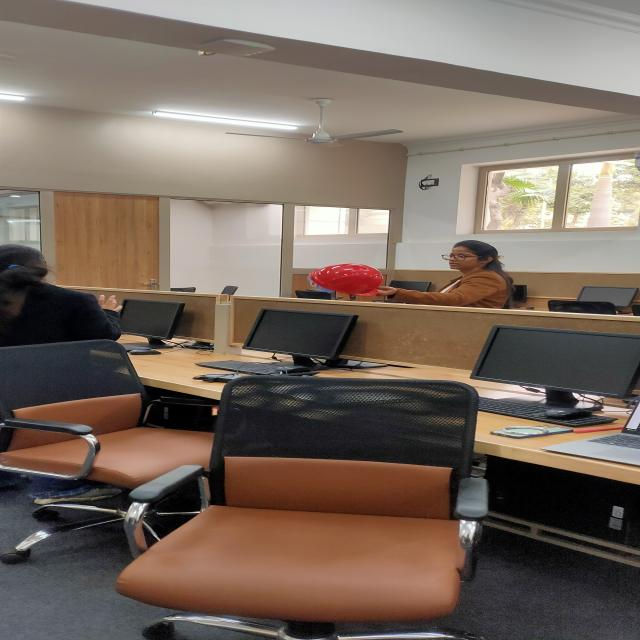unsafe: (0, 244, 120, 342), (376, 240, 516, 310)
